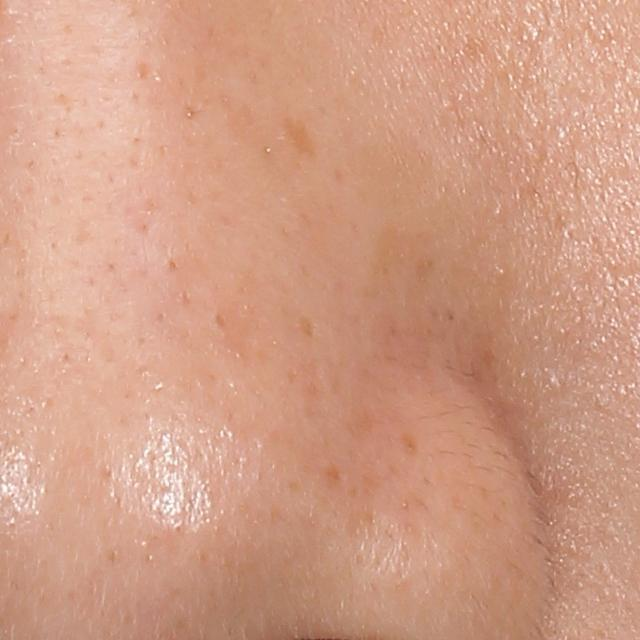melasma: (280, 114, 324, 166)
